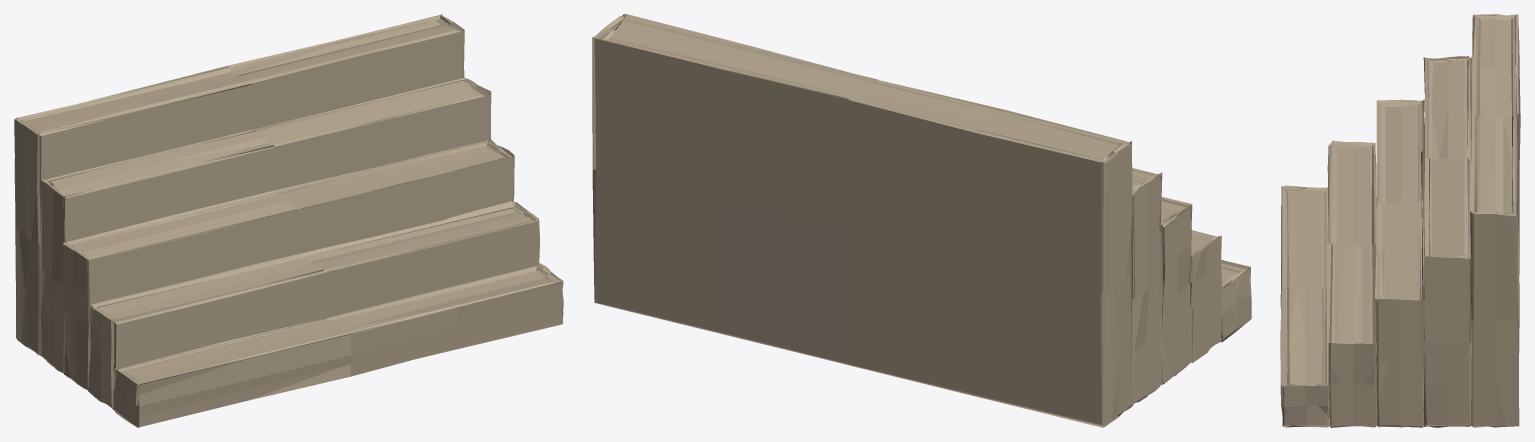
File: SM_Stairs.fbx
3 renders of one model, left to right at view 1: azimuth 30°, elevation 25°; view 2: azimuth 150°, elevation 25°; view 3: azimuth 270°, elevation 25°, orthographic. The views are drawn at different scales.
Parts seen in each view (by area): view 1: SM_Stairs; view 2: SM_Stairs; view 3: SM_Stairs.
Boxes of the visible parts, left/top/right/bottom form: SM_Stairs: left=14, top=14, right=563, bottom=427; SM_Stairs: left=592, top=14, right=1251, bottom=427; SM_Stairs: left=1280, top=14, right=1520, bottom=427.
Size of the model in its own units: 3.03 by 1.51 by 1.52.
